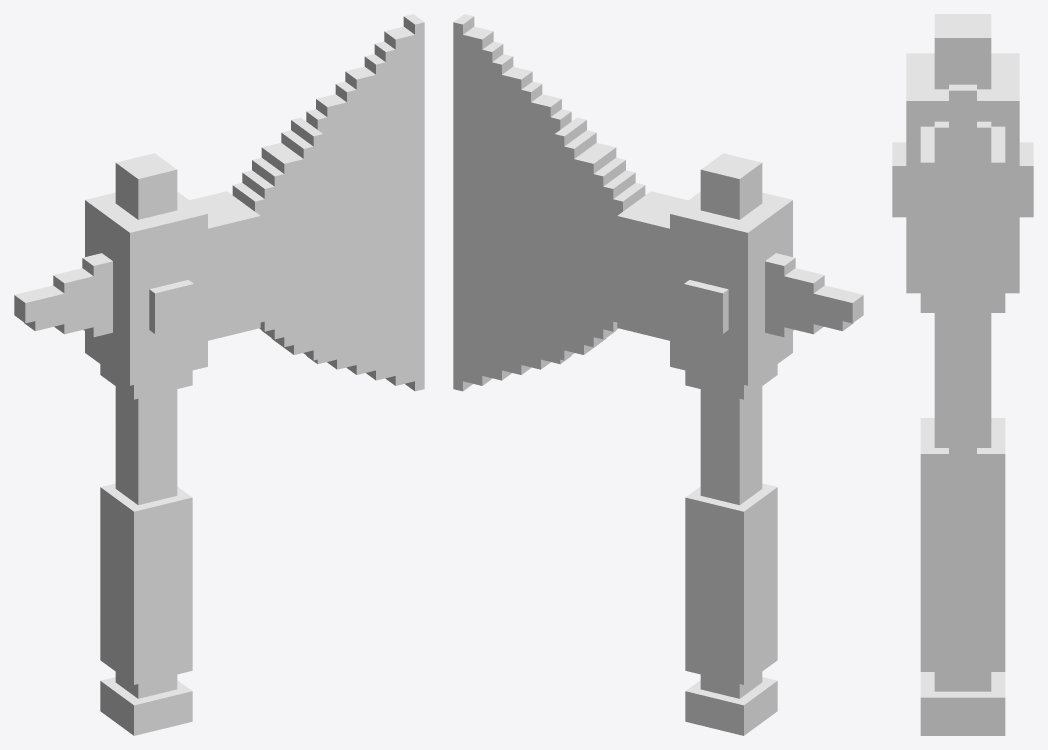
The model's file is diamond_axe.obj.
3 renders of one model, left to right at view 1: azimuth 30°, elevation 25°; view 2: azimuth 150°, elevation 25°; view 3: azimuth 270°, elevation 25°, orthographic. The views are drawn at different scales.
Visible parts, largest first — view 1: diamond_axe; view 2: diamond_axe; view 3: diamond_axe.
Part boxes in pixels (left/top/right/bottom): diamond_axe: left=14, top=14, right=424, bottom=735; diamond_axe: left=453, top=14, right=863, bottom=735; diamond_axe: left=892, top=14, right=1033, bottom=735.
Size of the model in its own units: 1.28 by 1.94 by 0.3125.
